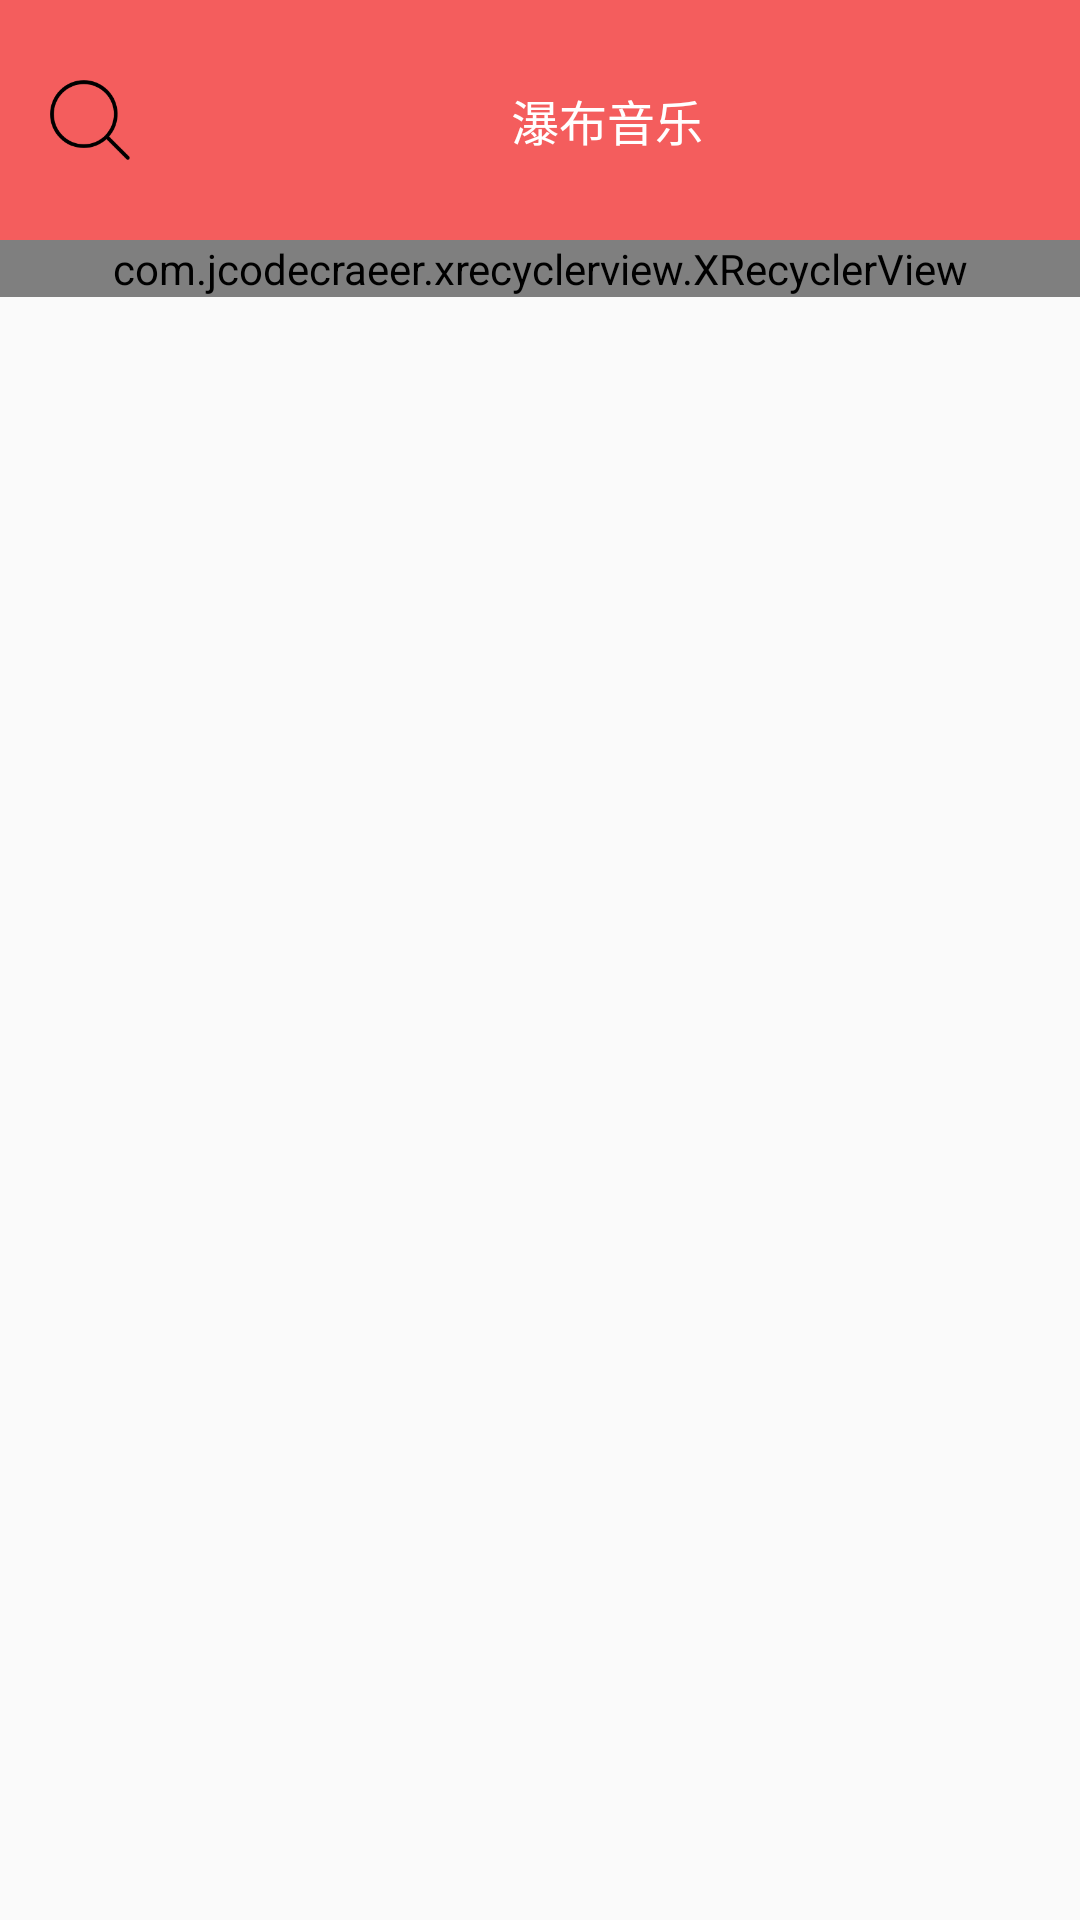

Screen size 1080w x 1920h. Icon name, then its box in pixels as (x1, y1, x2, y2):
search: (50, 80, 130, 160)
